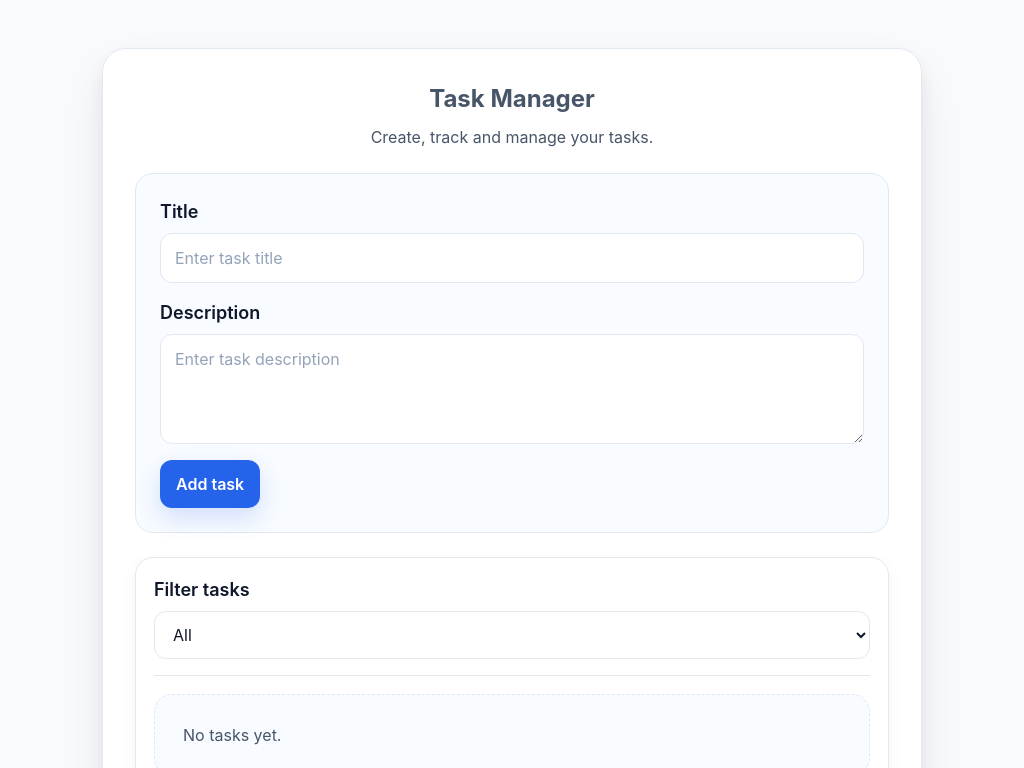
HomePage › handleAdd › ska skapa en ny task när formuläret skickas
Type "New task" into the field labelled "Title" at (512, 258), box [160,233,864,283]
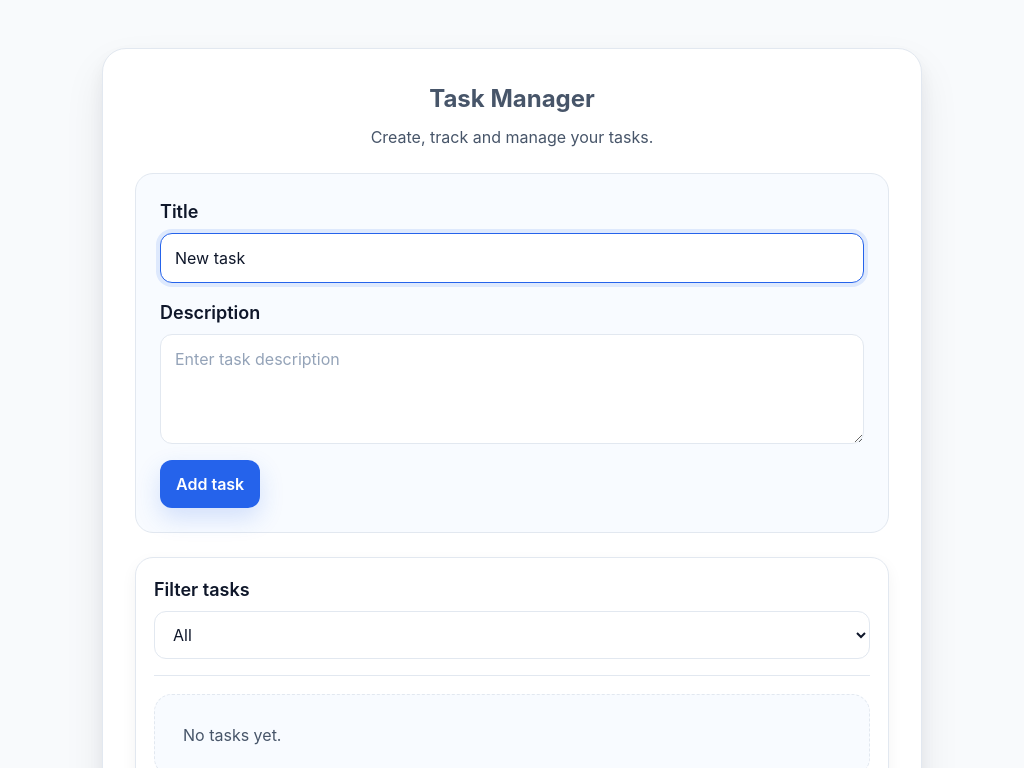
Type "New description" into the text box labelled "Description" at (512, 389), box [160,334,864,444]
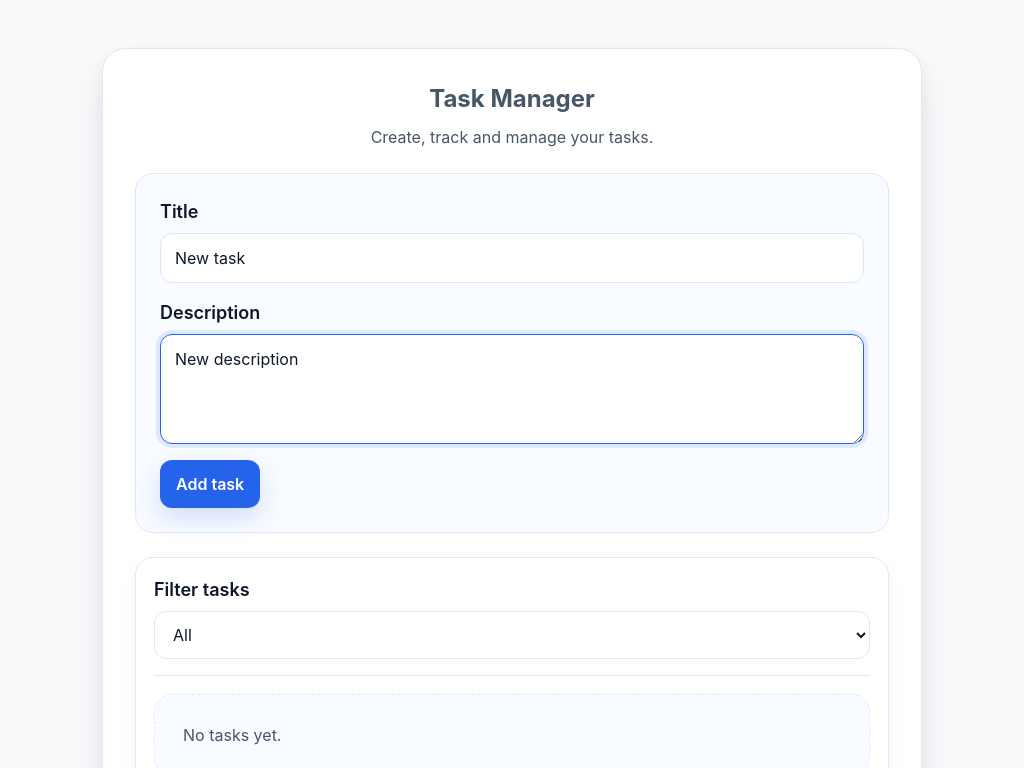
Click the button "Add task" at (210, 484), box [160,460,260,508]
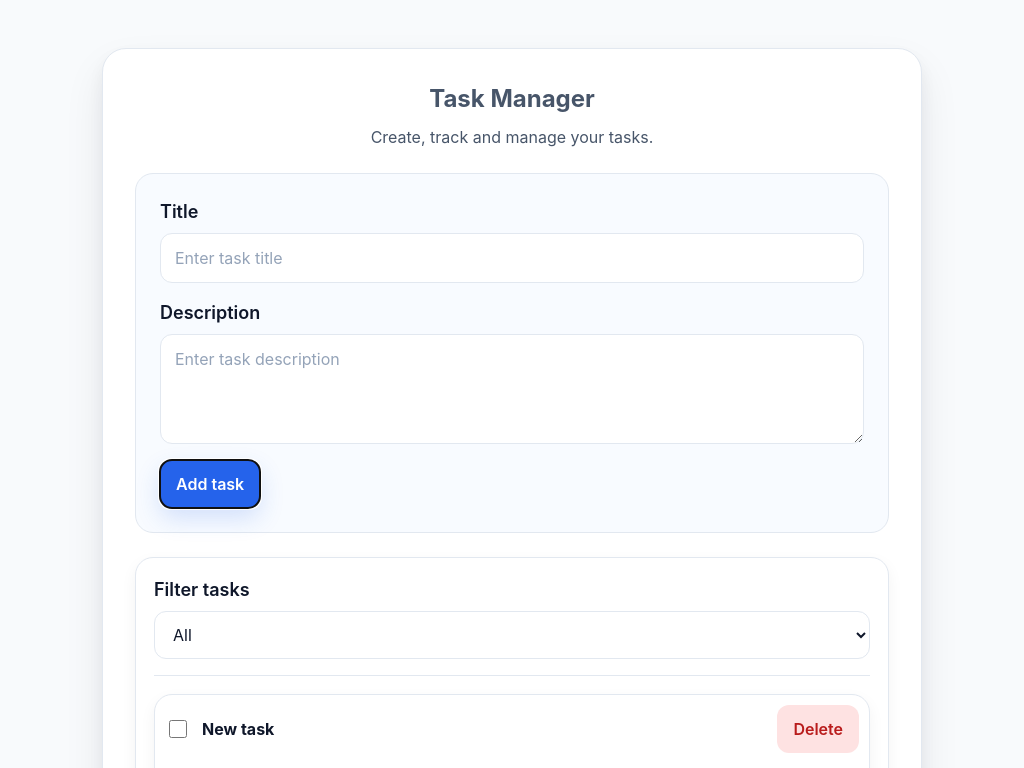
Expected: the text "New task" is shown, [202,717,274,741]
